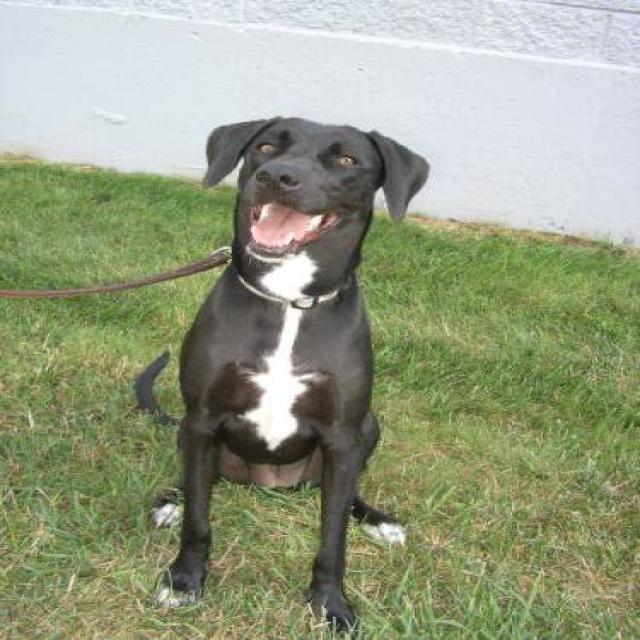happy: (114, 66, 455, 640)
